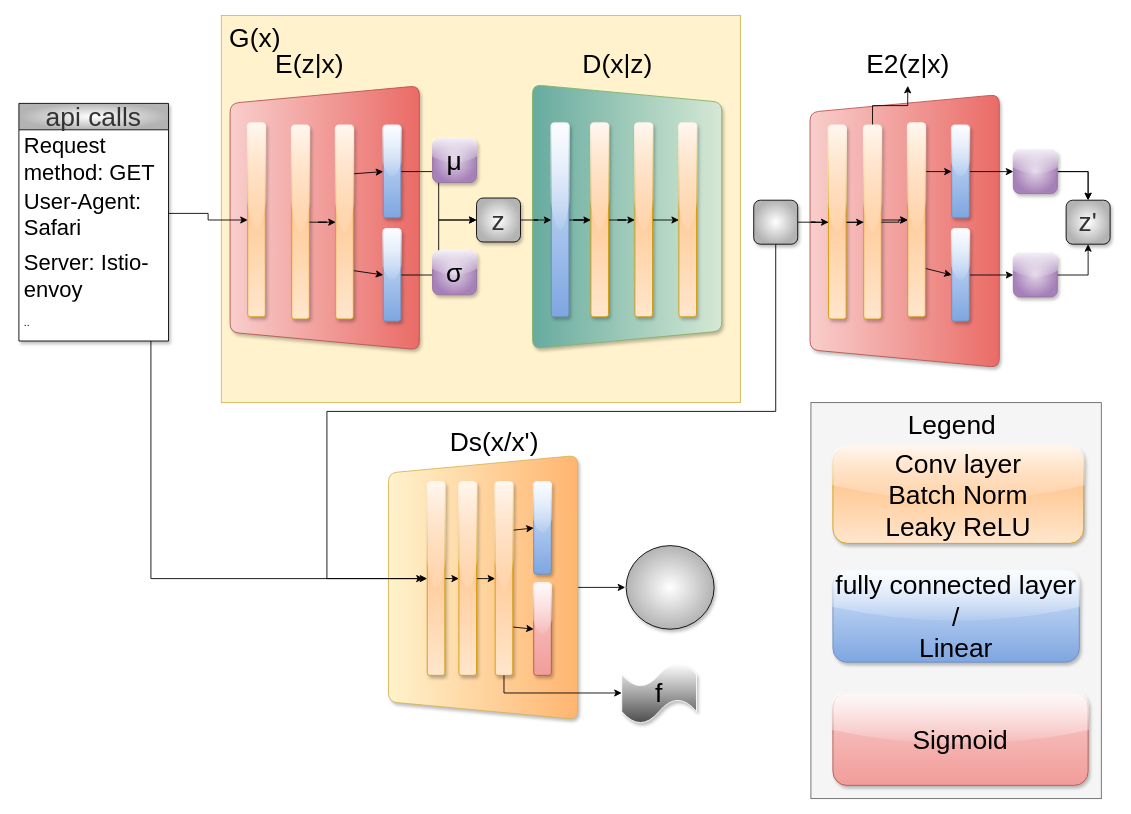
This 1131x814 diagram has some shape labels left out. The shapes that lost their labels are listed below. From the top down, each one's centre as x and y in pixels, then its label:
(x=1036, y=172): μ'
(x=776, y=223): x'
(x=1036, y=276): σ'
(x=670, y=588): real / fake
